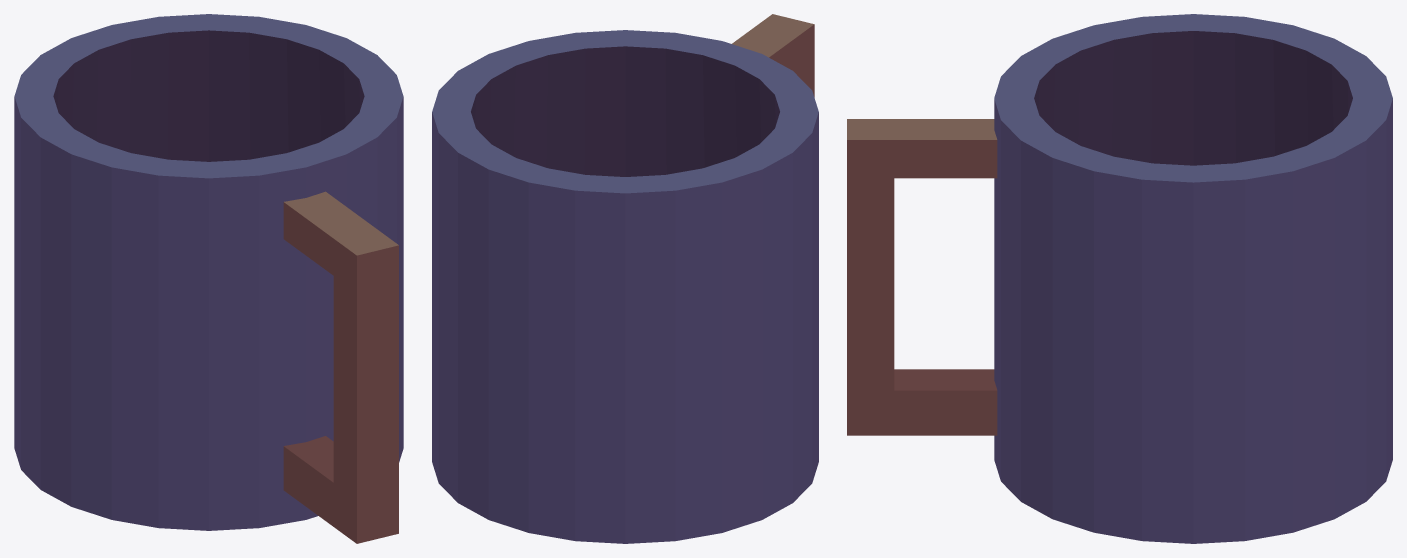
The model's file is cup.glb.
The picture shows the model from 3 angles, left to right: view 1: azimuth 30°, elevation 25°; view 2: azimuth 150°, elevation 25°; view 3: azimuth 270°, elevation 25°; orthographic projection. The views are drawn at different scales.
Visible parts, largest first — view 1: body, handle; view 2: body, handle; view 3: body, handle.
Part boxes in pixels (x1,y1,x2,y2): body: (14, 14, 403, 530); handle: (283, 191, 398, 543); body: (432, 30, 818, 543); handle: (732, 14, 814, 97); body: (994, 14, 1392, 543); handle: (847, 119, 997, 435).
Size of the model in its own units: 1.1 by 1.1 by 1.51.
1 material, 1 textured.
